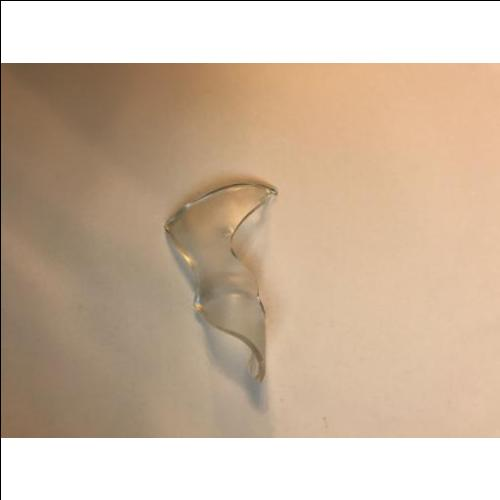glass: (190, 189, 263, 369)
